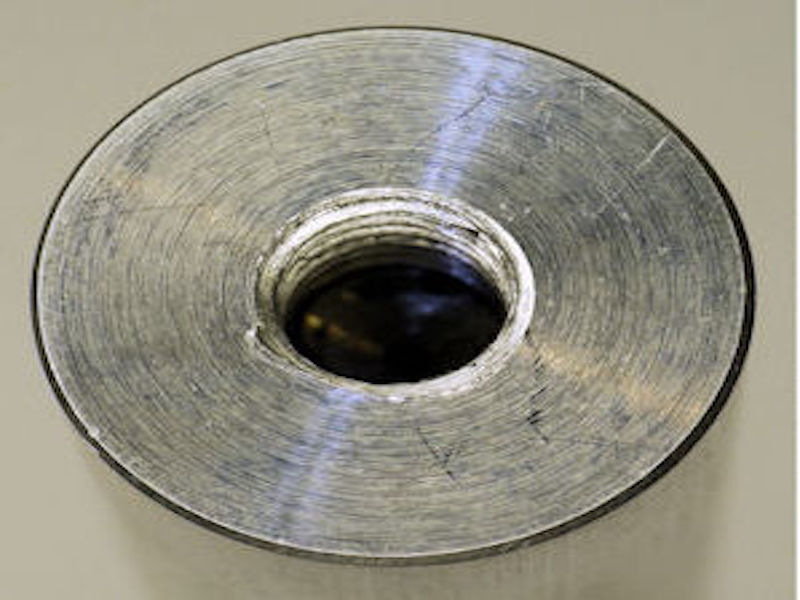hole: (249, 187, 537, 396)
